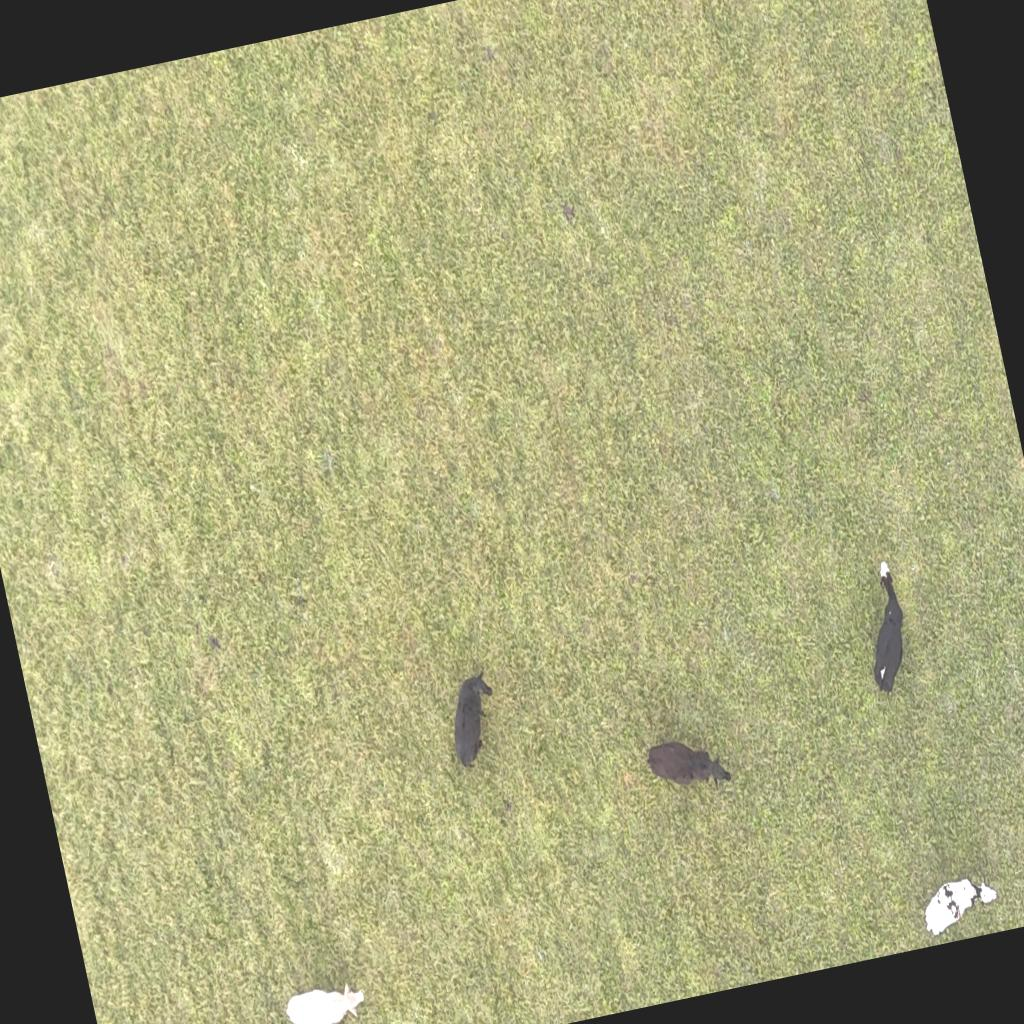cow: (848, 555, 924, 699), (434, 660, 510, 776), (638, 720, 738, 806), (915, 868, 1008, 942), (281, 973, 372, 1024)
